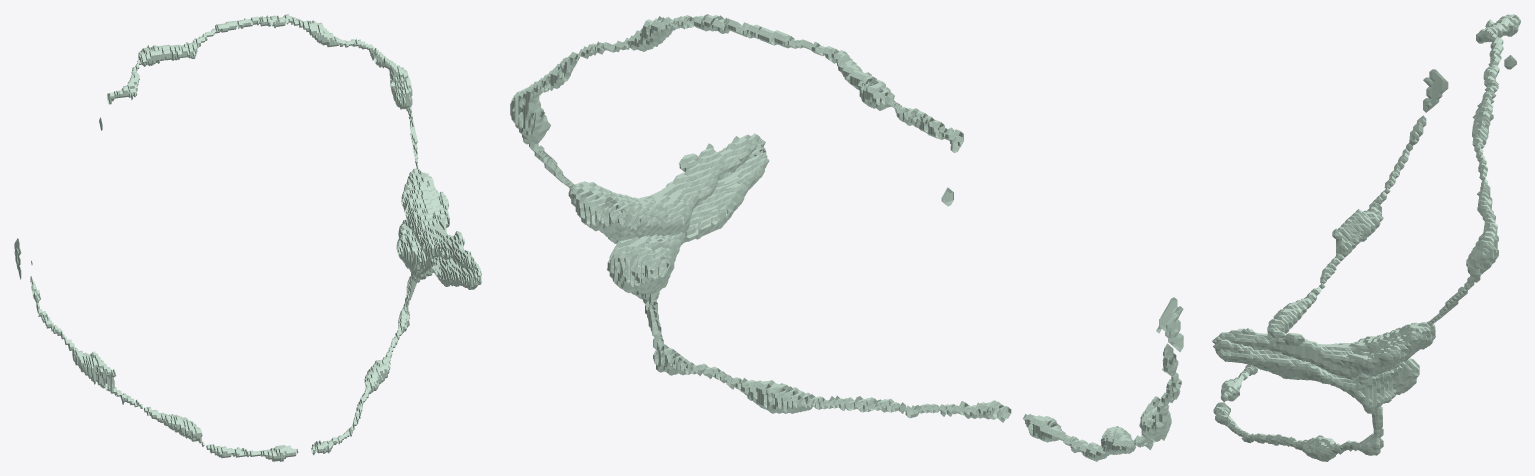
File: SVV_RMEL.gltf
3 renders of one model, left to right at view 1: azimuth 30°, elevation 25°; view 2: azimuth 150°, elevation 25°; view 3: azimuth 270°, elevation 25°, orthographic. The views are drawn at different scales.
Visible parts, largest first — view 1: RMEL; view 2: RMEL; view 3: RMEL.
Part boxes in pixels (box(x1,y1,x2,y2)): RMEL: box(14, 14, 481, 461); RMEL: box(510, 14, 1183, 461); RMEL: box(1212, 14, 1520, 461).
Size of the model in its own units: 112258 by 87086 by 62408.
